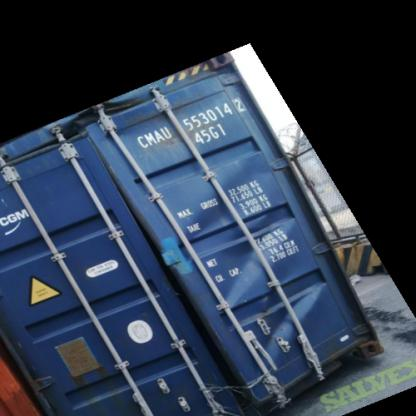Damage: (188, 166, 326, 402), (58, 98, 169, 141)
